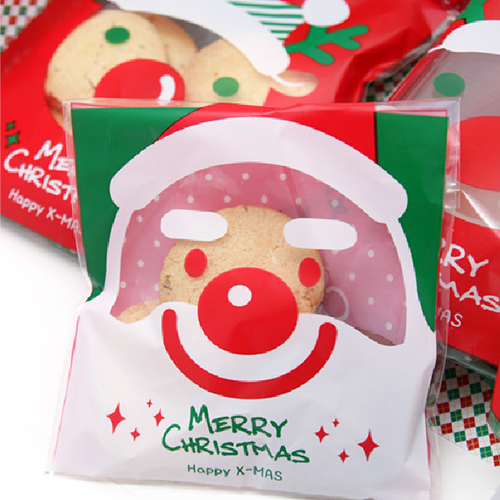Snack: (54, 90, 455, 500)
